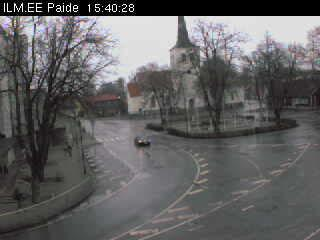car: (134, 134, 151, 147)
person: (12, 186, 23, 210), (64, 143, 72, 157)
